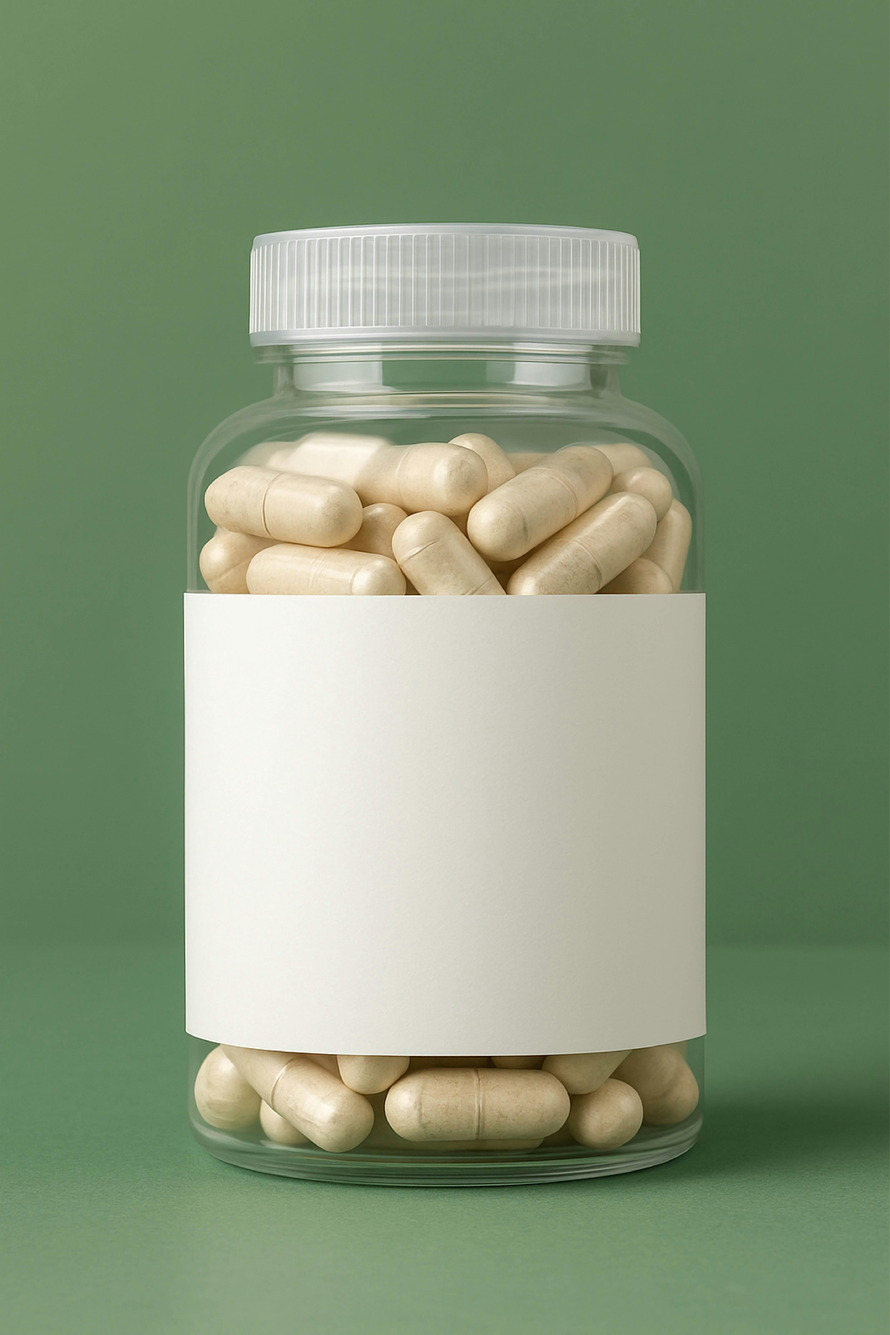Bottle-Detection: (111, 167, 784, 1243)
